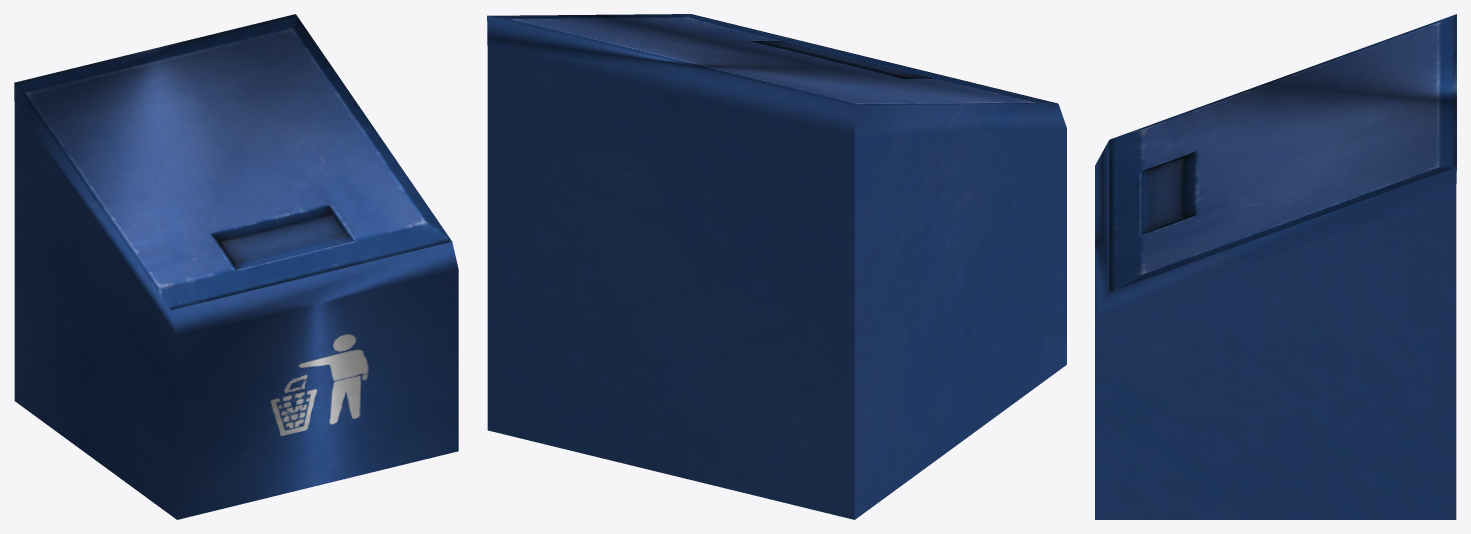
File: çöp konteynerı yeni.fbx
3 renders of one model, left to right at view 1: azimuth 30°, elevation 25°; view 2: azimuth 150°, elevation 25°; view 3: azimuth 270°, elevation 25°, orthographic. The views are drawn at different scales.
Visible parts, largest first — view 1: Cube; view 2: Cube; view 3: Cube.
Part boxes in pixels (box(x1,y1,x2,y2)): Cube: box(14, 14, 458, 519); Cube: box(487, 14, 1066, 519); Cube: box(1095, 14, 1456, 519).
Size of the model in its own units: 87.84 by 94.8 by 88.01.
Materials: 1 (1 with a texture image).
